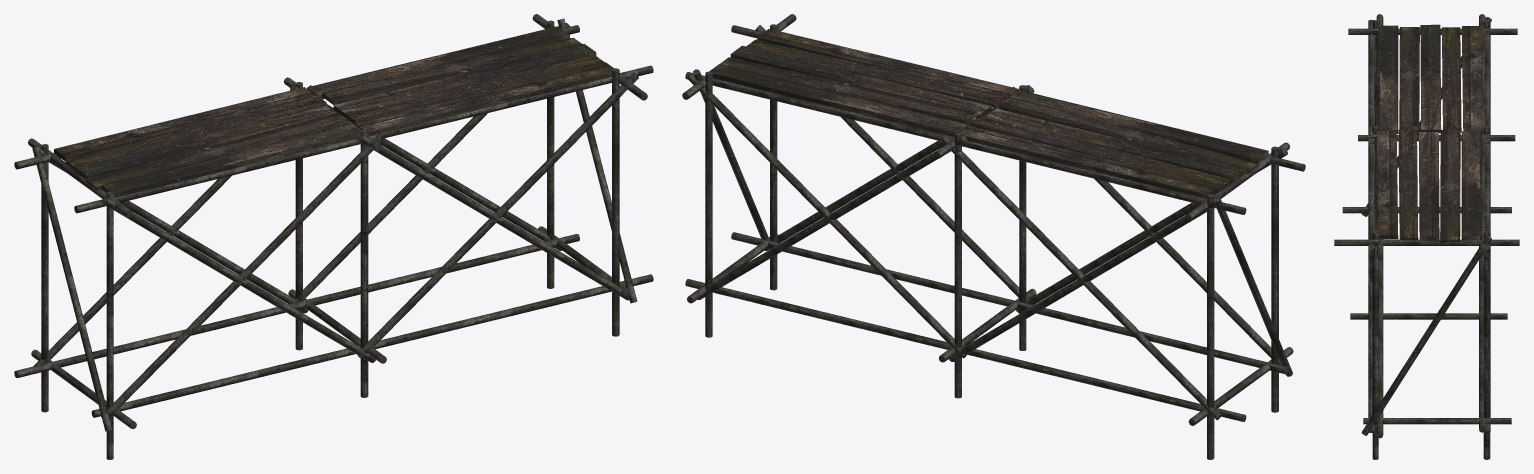
Rendered from Scaffolding_1.fbx.
3 renders of one model, left to right at view 1: azimuth 30°, elevation 25°; view 2: azimuth 150°, elevation 25°; view 3: azimuth 270°, elevation 25°, orthographic. The views are drawn at different scales.
Visible parts, largest first — view 1: Scaffolding_1; view 2: Scaffolding_1; view 3: Scaffolding_1.
Part boxes in pixels (x1=…): Scaffolding_1: x1=14, y1=14, x2=653, y2=459; Scaffolding_1: x1=682, y1=14, x2=1305, y2=459; Scaffolding_1: x1=1334, y1=14, x2=1519, y2=459.
Size of the model in its own units: 568 by 251 by 186.
